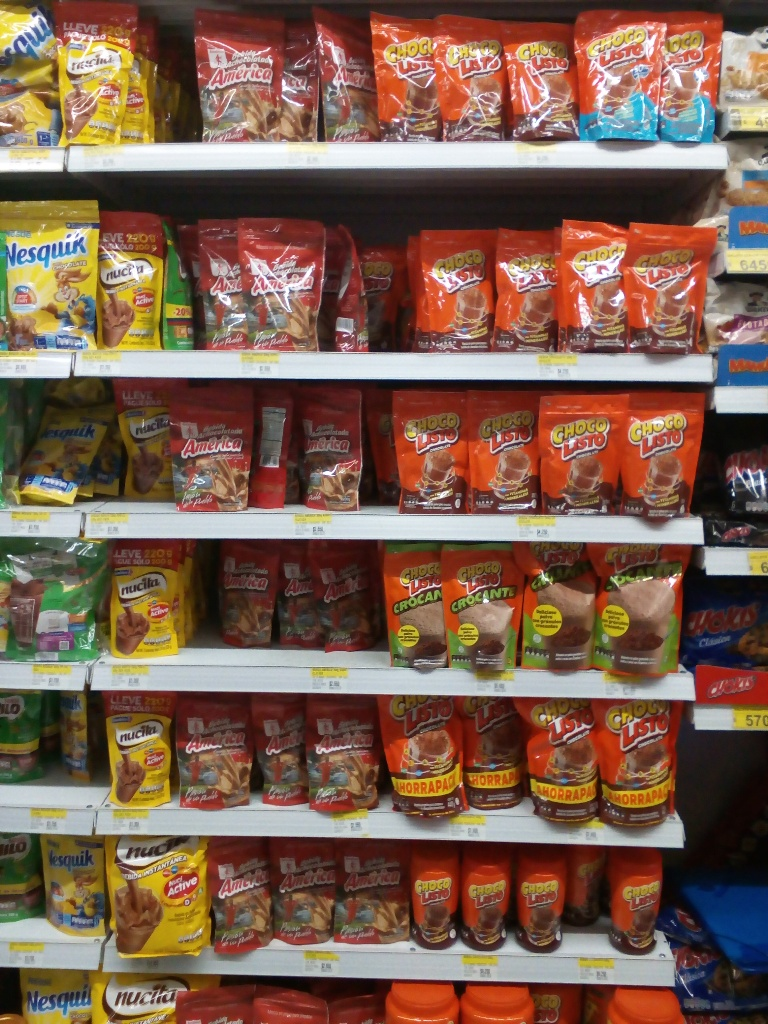COL0170102DYP50000: (519, 536, 596, 669)
COL0170103DYP44000: (375, 694, 471, 813)
COL0170104DYP20000: (575, 7, 661, 140)
COL0170203DYP50000: (12, 544, 109, 663)
COL0170303DYP20000: (13, 390, 109, 509)
